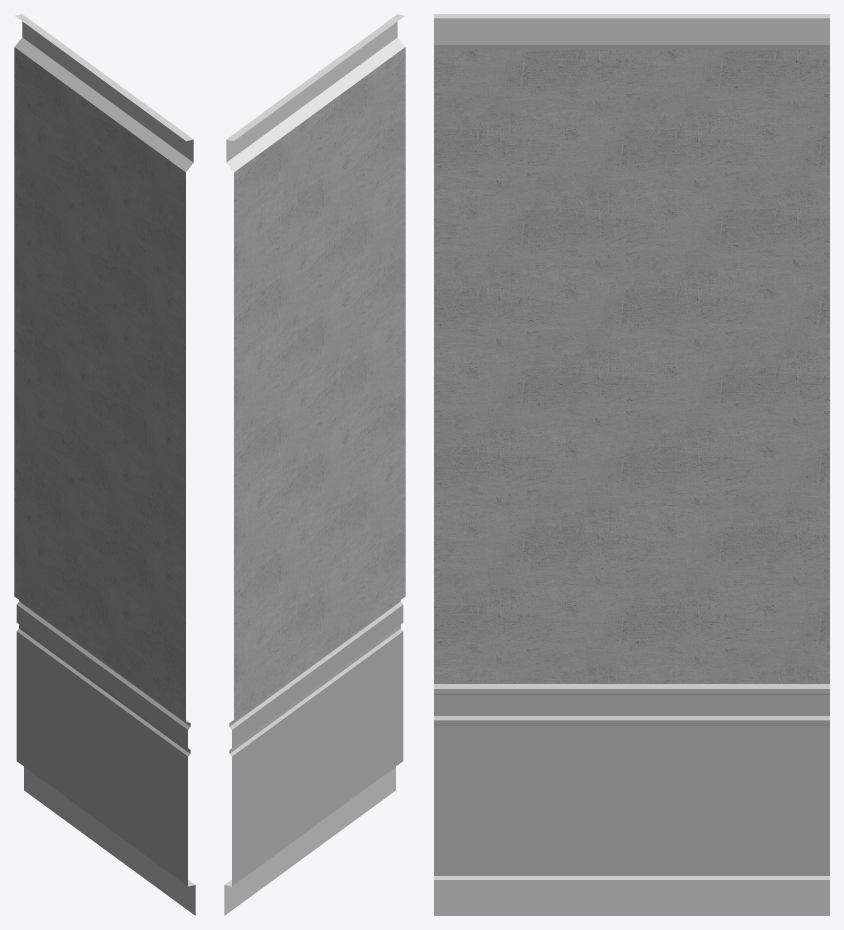
File: C_Wall.fbx
3 renders of one model, left to right at view 1: azimuth 30°, elevation 25°; view 2: azimuth 150°, elevation 25°; view 3: azimuth 270°, elevation 25°, orthographic. The views are drawn at different scales.
Parts seen in each view (by area): view 1: C_Wall; view 2: C_Wall; view 3: C_Wall.
Boxes of the visible parts, x1,y1,x2,y2 form: C_Wall: [14, 14, 195, 915]; C_Wall: [224, 14, 405, 915]; C_Wall: [434, 14, 829, 915].
Size of the model in its own units: 13.02 by 1000 by 400.
